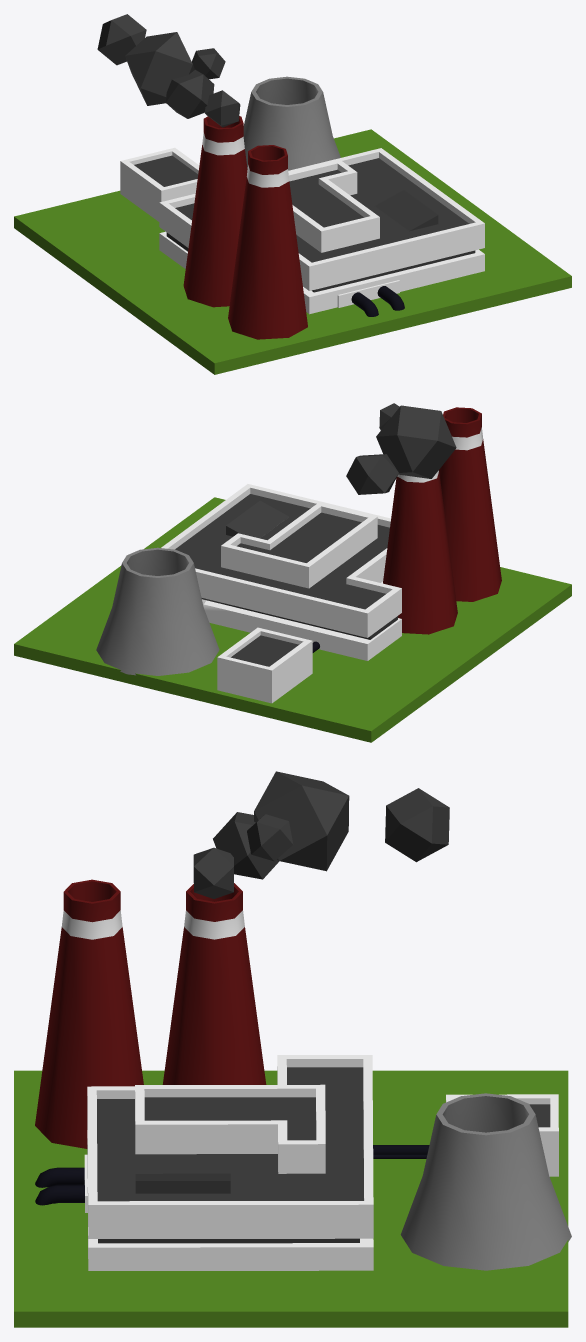
The model's file is usina.fbx.
3 renders of one model, top to bottom at view 1: azimuth 30°, elevation 25°; view 2: azimuth 150°, elevation 25°; view 3: azimuth 270°, elevation 25°, orthographic. The views are drawn at different scales.
Visible parts, largest first — view 1: Box005, Box001, Tube003, Tube004, Tube005, Box002, Hedra001, Hedra004, Hedra002, Hedra005, Hedra003, Box003; view 2: Box005, Box001, Tube005, Tube004, Tube003, Box002, Hedra001, Hedra002; view 3: Box005, Box001, Tube005, Tube003, Tube004, Hedra001, Hedra002, Hedra004, Box002, Hedra005, Hedra003, Line001 (+1 smaller).
Part boxes in pixels (box(x1,y1,x2,y2)): Box005: box(14, 129, 571, 374); Box001: box(159, 148, 484, 314); Tube003: box(228, 145, 307, 339); Tube004: box(183, 116, 247, 307); Tube005: box(243, 76, 340, 170); Box002: box(120, 147, 199, 221); Hedra001: box(125, 32, 194, 105); Hedra004: box(165, 69, 214, 118); Hedra002: box(97, 14, 146, 65); Hedra005: box(205, 90, 240, 127); Hedra003: box(192, 48, 225, 79); Box003: box(337, 280, 399, 307); Box005: box(14, 497, 571, 742); Box001: box(161, 484, 401, 660); Tube005: box(96, 547, 219, 675); Tube004: box(383, 470, 457, 634); Tube003: box(439, 407, 501, 601); Box002: box(217, 627, 312, 703); Hedra001: box(376, 405, 456, 478); Hedra002: box(346, 454, 398, 494); Box005: box(14, 1070, 568, 1327); Box001: box(87, 1055, 373, 1270); Tube005: box(400, 1093, 571, 1270); Tube003: box(35, 879, 143, 1148); Tube004: box(162, 883, 266, 1084); Hedra001: box(254, 771, 349, 871); Hedra002: box(385, 788, 449, 862); Hedra004: box(213, 812, 279, 879); Box002: box(446, 1094, 558, 1176); Hedra005: box(193, 847, 233, 898); Hedra003: box(247, 814, 293, 861); Line001: box(35, 1167, 84, 1187).
Size of the model in its own units: 182 by 122 by 178.
